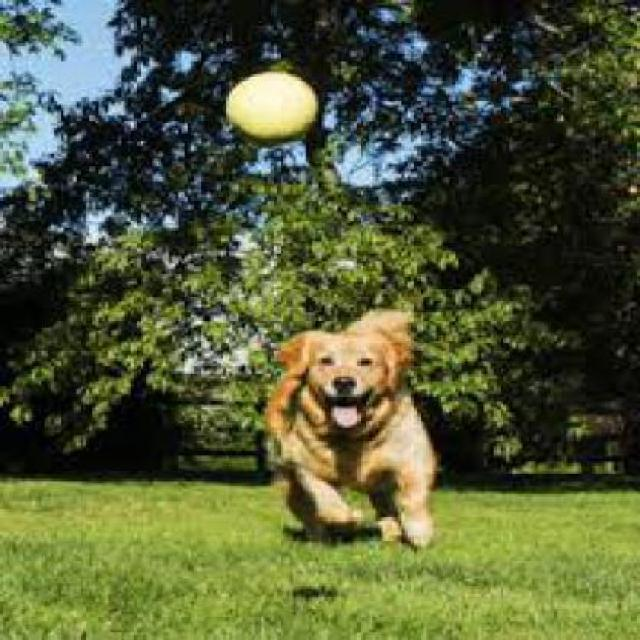tennis-ball: (225, 69, 318, 148)
